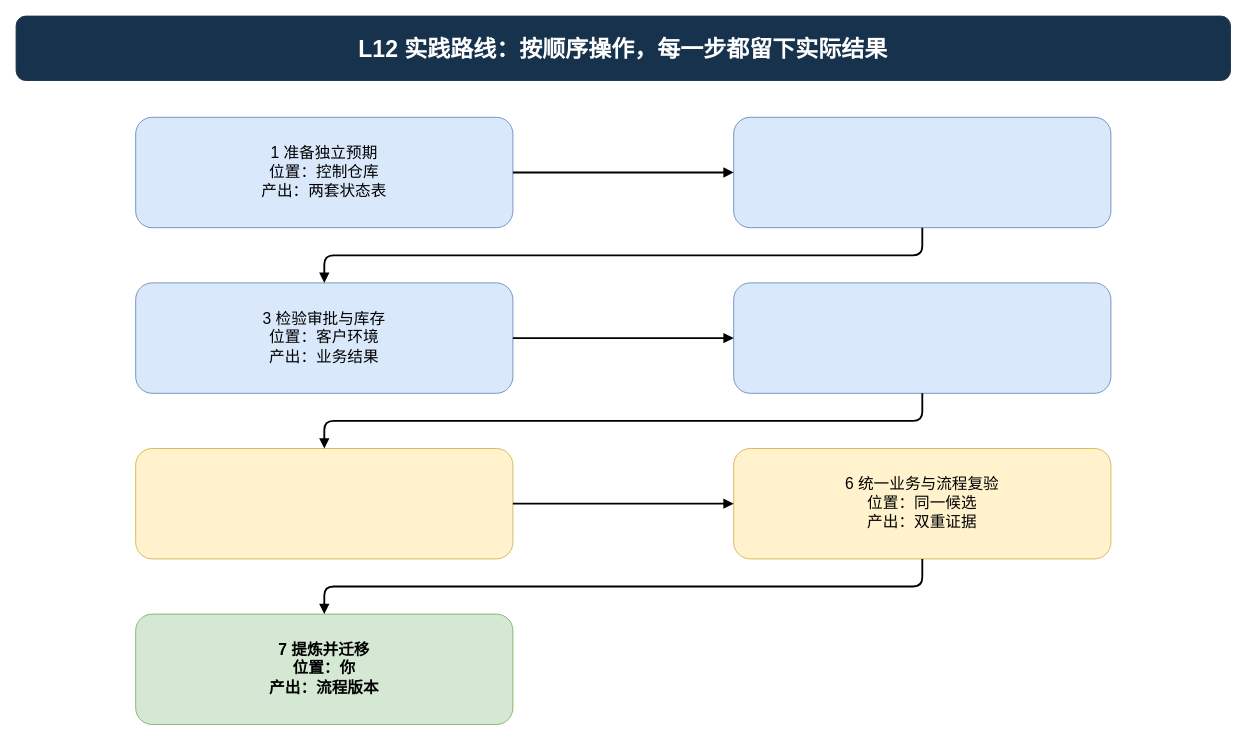
Some shapes in this 1247 by 741 pixel diagram are drawn without their labels. Each missing label, with the box of its shape:
2 观察 Graph 边界 位置：控制实验 产出：状态轨迹: (733, 116, 1111, 228)
4 建设自己的 Graph 位置：个人候选 产出：Graph 实现: (733, 282, 1111, 393)
5 等待、批准或打回 位置：审核者 产出：恢复轨迹: (135, 448, 513, 559)
